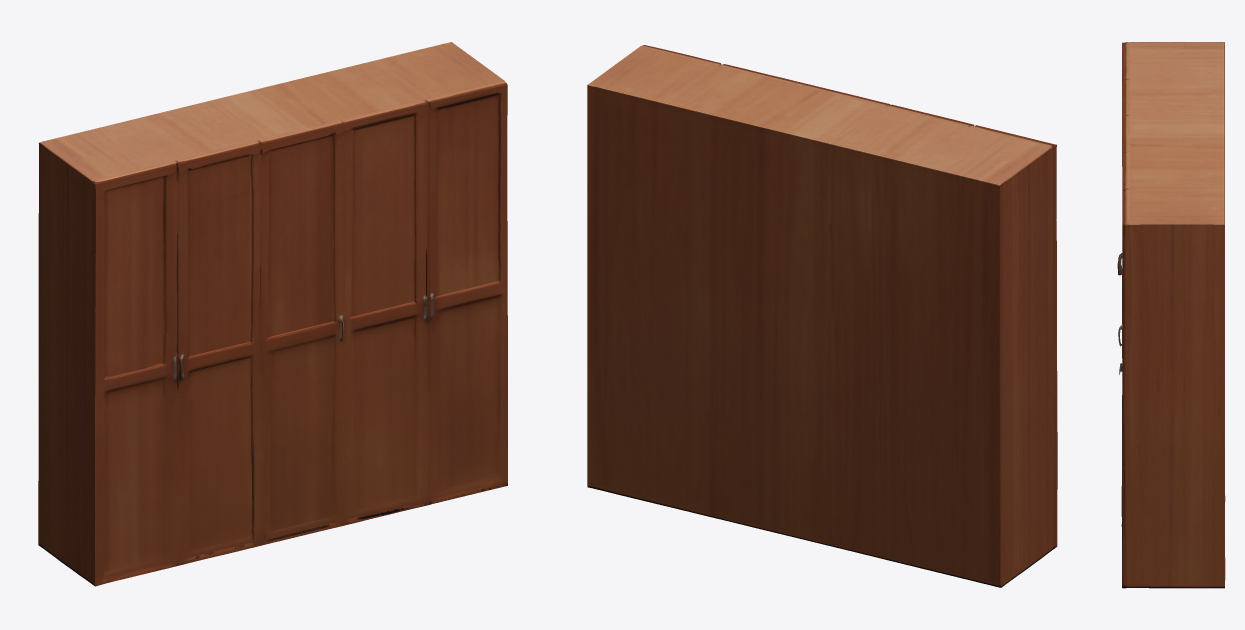
Rendered from source.glb.
The picture shows the model from 3 angles, left to right: view 1: azimuth 30°, elevation 25°; view 2: azimuth 150°, elevation 25°; view 3: azimuth 270°, elevation 25°; orthographic projection. The views are drawn at different scales.
Parts seen in each view (by area): view 1: world; view 2: world; view 3: world.
Boxes of the visible parts, bbox=[...] form: world: bbox=[38, 42, 507, 586]; world: bbox=[587, 45, 1057, 587]; world: bbox=[1117, 42, 1225, 588].
Bounding box in the file's own units: 1.1 × 1.02 × 0.2723.
2 materials, 1 textured.
